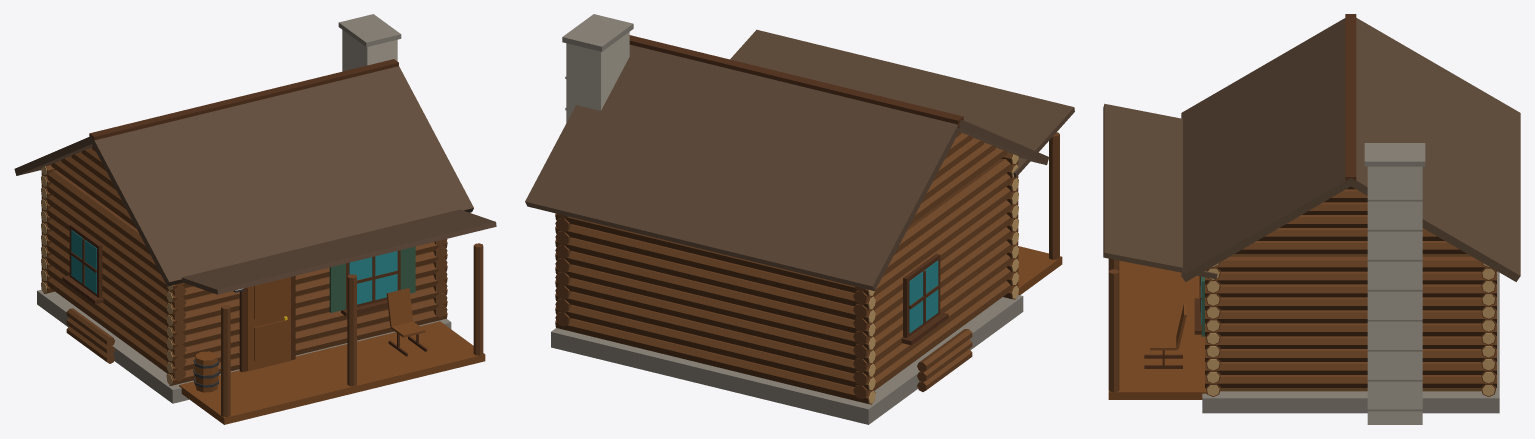
File: Building_LogCabin.fbx
3 views of the same model, side by side, from view 1: azimuth 30°, elevation 25°; view 2: azimuth 150°, elevation 25°; view 3: azimuth 270°, elevation 25° (orthographic). The views are drawn at different scales.
Parts seen in each view (by area): view 1: Building_LogCabin; view 2: Building_LogCabin; view 3: Building_LogCabin.
Part boxes in pixels (<box>): Building_LogCabin: <box>14,14,496,424</box>; Building_LogCabin: <box>525,14,1074,424</box>; Building_LogCabin: <box>1103,14,1520,424</box>.
Bounding box in the file's own units: 7.25 × 5.3 × 7.58.
